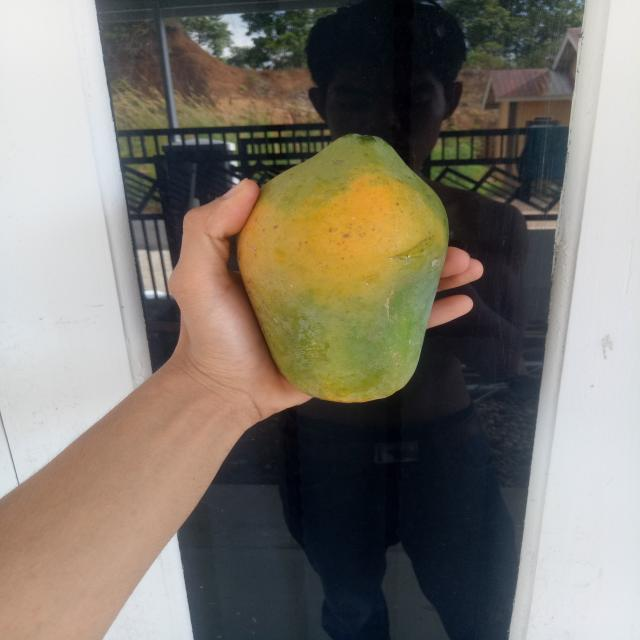Pepaya rippen: (232, 122, 452, 408)
